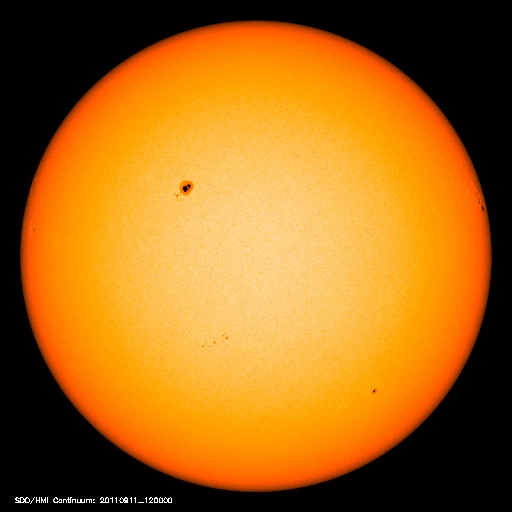sunspot: (167, 170, 202, 205), (197, 327, 233, 355), (472, 187, 492, 220), (361, 379, 387, 404)
